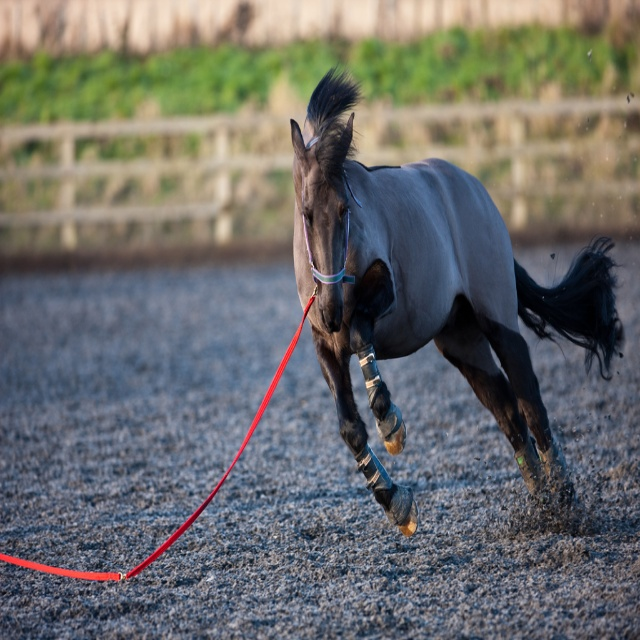Horse: (291, 63, 626, 537)
